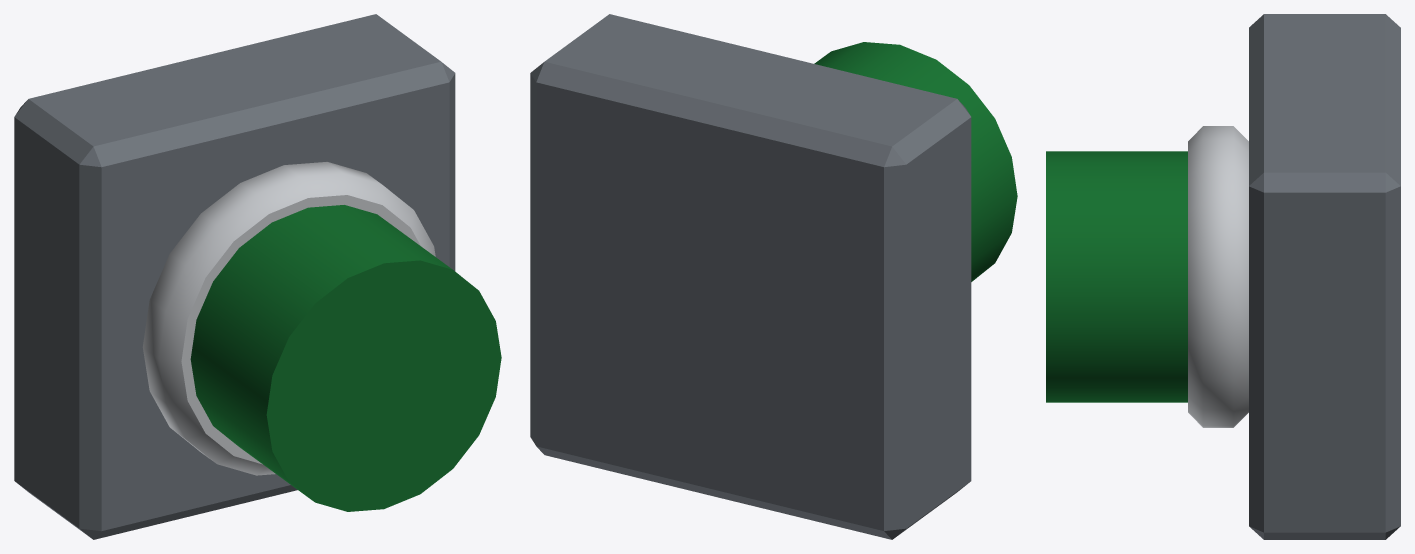
File: light_indicator_green.glb
3 views of the same model, side by side, from view 1: azimuth 30°, elevation 25°; view 2: azimuth 150°, elevation 25°; view 3: azimuth 270°, elevation 25° (orthographic). The views are drawn at different scales.
Parts seen in each view (by area): view 1: Indicator_Static, Lamp; view 2: Indicator_Static, Lamp; view 3: Indicator_Static, Lamp.
Boxes of the visible parts, <box> form: Indicator_Static: <box>14,14,455,539</box>; Lamp: <box>190,205,501,511</box>; Indicator_Static: <box>530,14,971,539</box>; Lamp: <box>814,42,1017,281</box>; Indicator_Static: <box>1188,14,1400,539</box>; Lamp: <box>1046,151,1187,402</box>.
Size of the model in its own units: 0.08 by 0.08 by 0.07.
